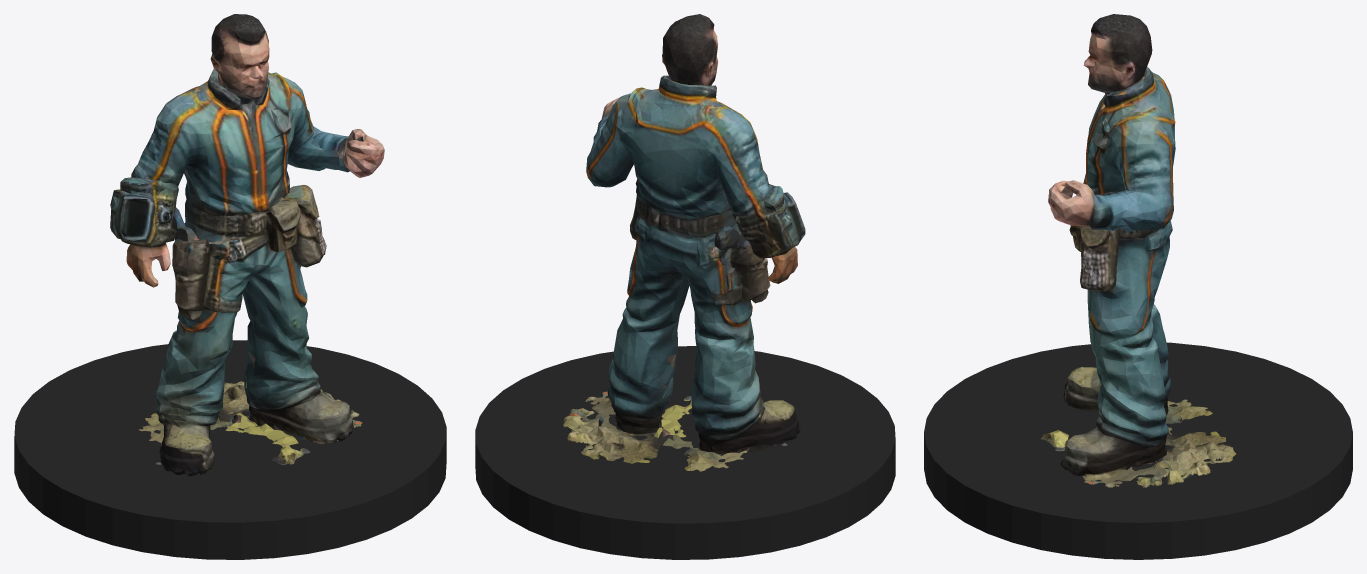
Rendered from sole-survivor-day-one.glb.
The picture shows the model from 3 angles, left to right: view 1: azimuth 30°, elevation 25°; view 2: azimuth 150°, elevation 25°; view 3: azimuth 270°, elevation 25°; orthographic projection. The views are drawn at different scales.
Parts seen in each view (by area): view 1: figure, base; view 2: figure, base; view 3: base, figure.
Boxes of the visible parts, box(x1,y1,x2,y2) form: figure: box(110, 14, 384, 476); base: box(14, 340, 446, 559); figure: box(563, 14, 805, 471); base: box(475, 346, 895, 559); base: box(924, 342, 1352, 559); figure: box(1041, 14, 1236, 487).
Size of the model in its own units: 1.26 by 1.47 by 1.26.
Materials: 2 (1 with a texture image).
